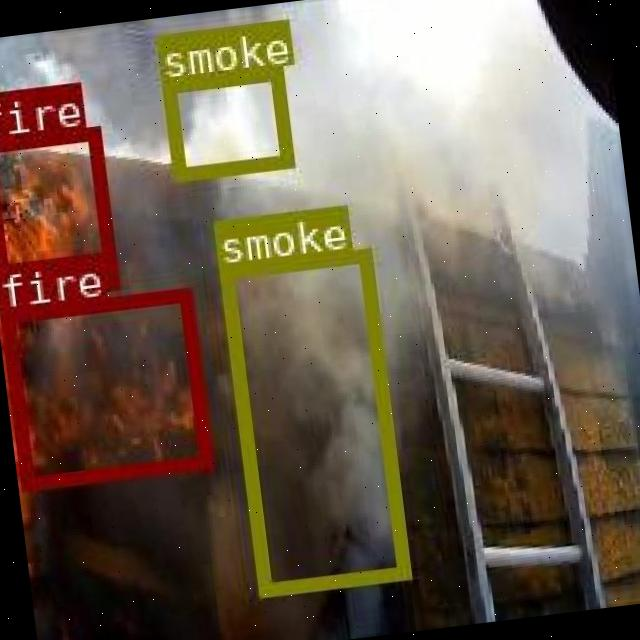fire: (0, 287, 208, 488), (0, 124, 116, 301)
smoke: (218, 248, 409, 594), (158, 63, 291, 179)
